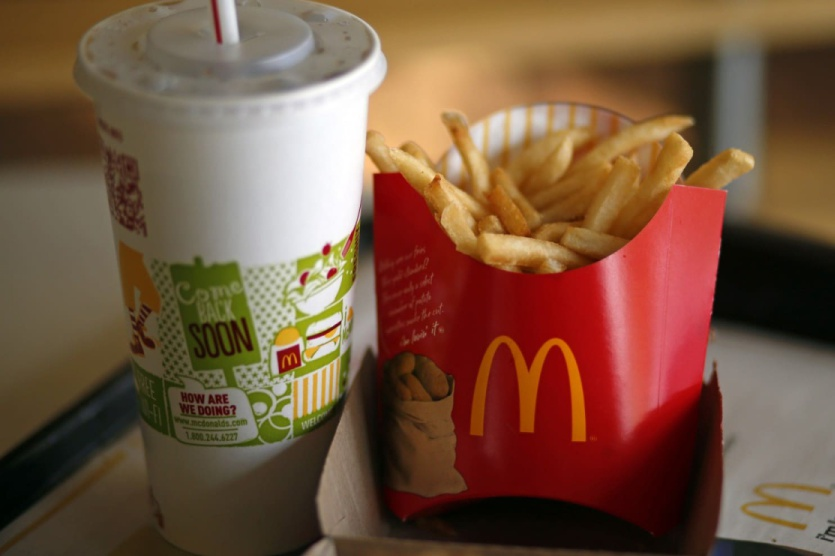mcdonalds: (462, 331, 600, 454)
